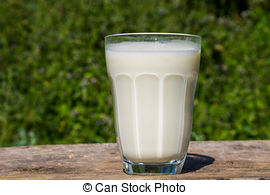glass of milk: (113, 37, 188, 169)
